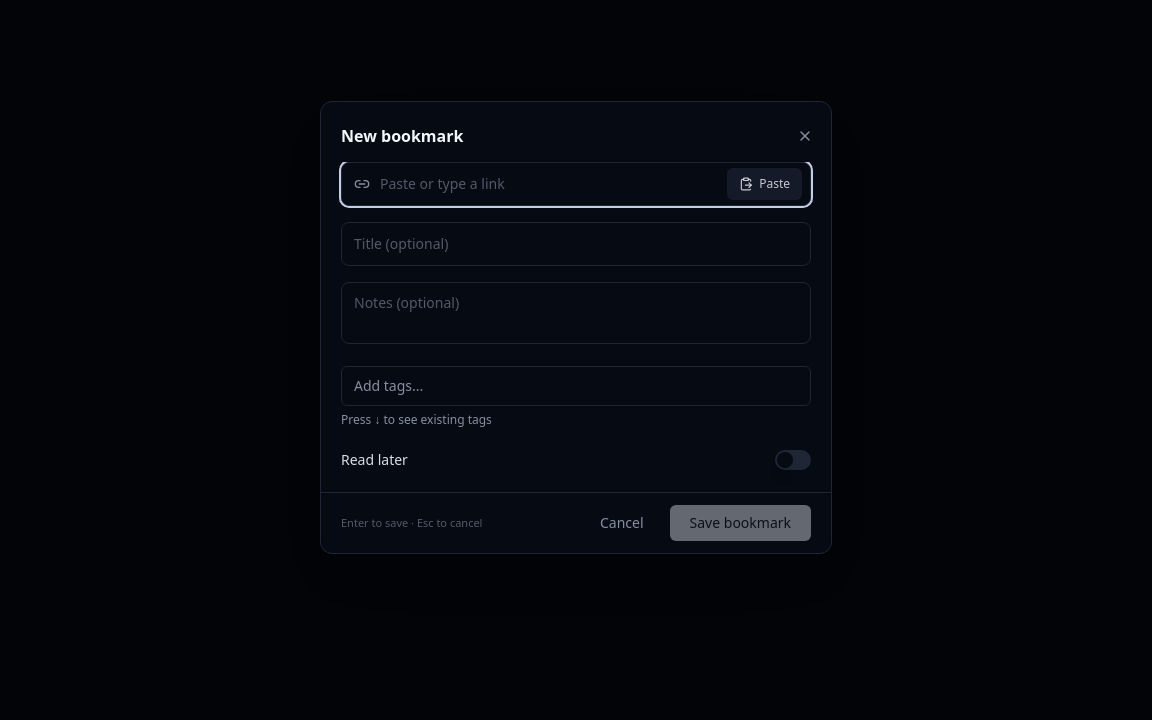
Test: AddBookmarkDialog › Paste button › normalizes a bare domain from the clipboard
What coordinates should you click on to do the following:
click the button with aria-label "Paste link from clipboard"
I would click on:
 (765, 184)
Its box is [727,168,802,200].
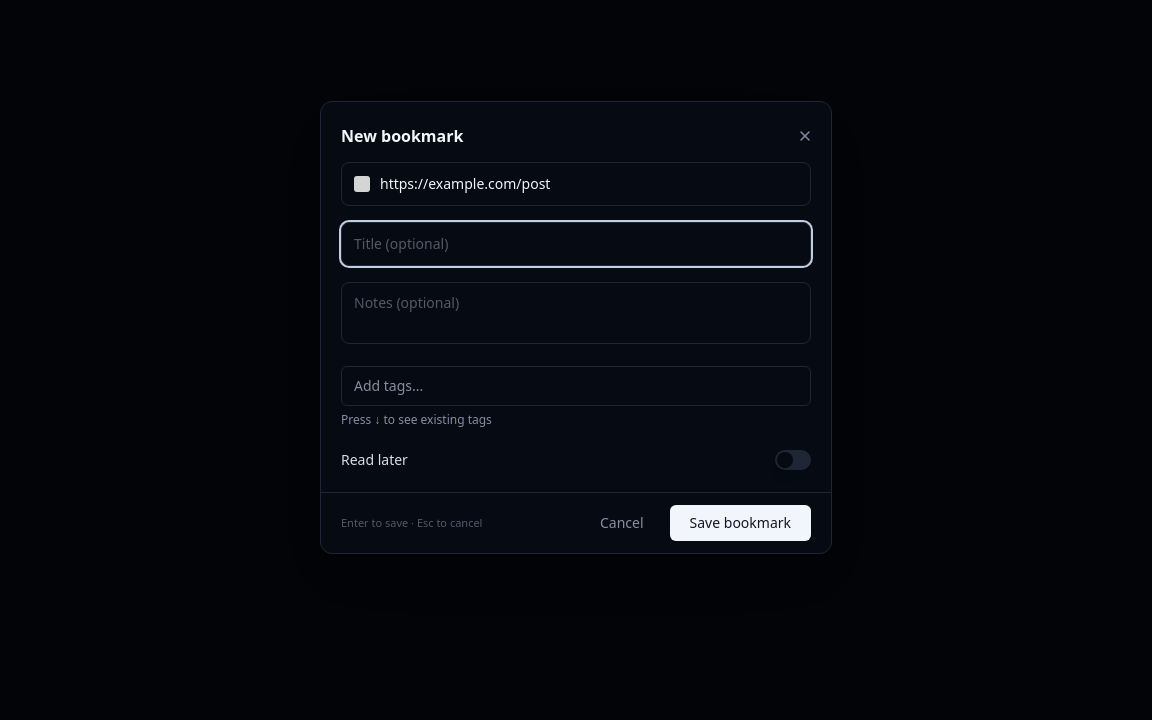
Check: the field with placeholder "Paste or type a link" holds "https://example.com/post", box [380,163,798,205]
